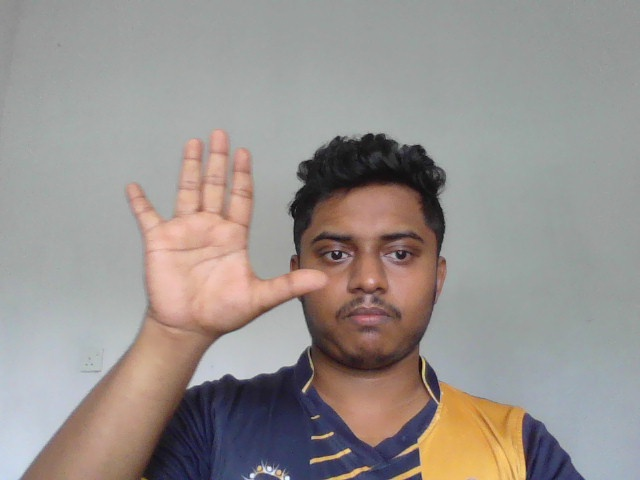Hello: (121, 127, 328, 346)
